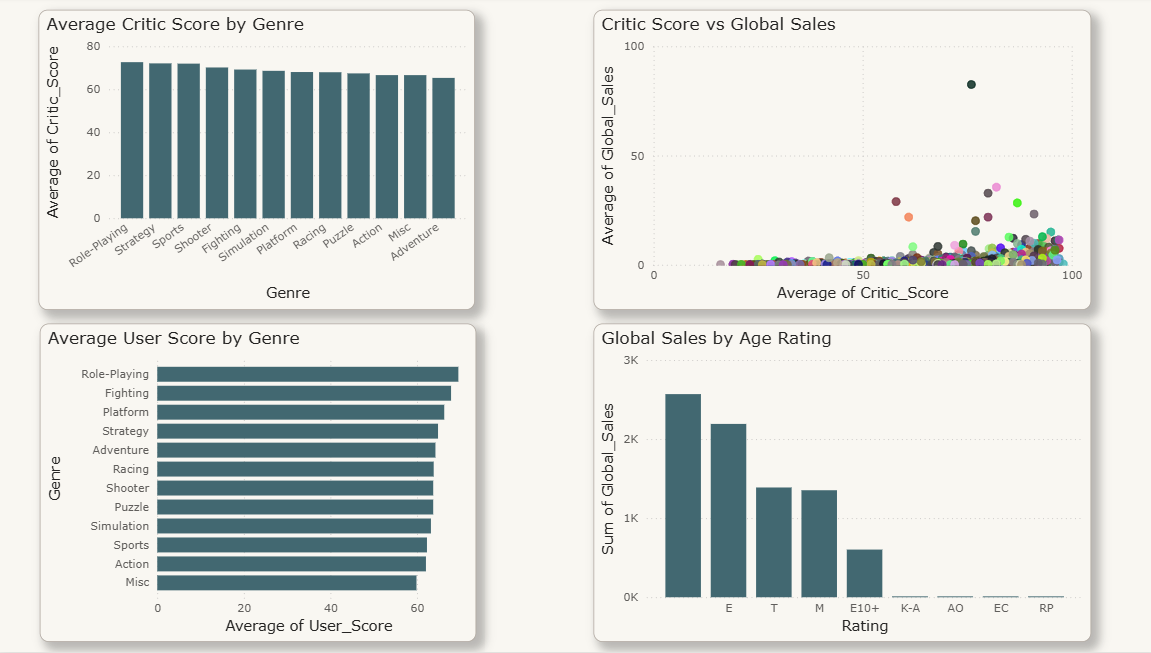

This screenshot's page, from the dashboard's own definition file:
{"tool":"powerbi","page":{"name":"⭐ Ratings & Reviews","canvas":[1280,720],"ordinal":3},"visuals":[{"type":"clusteredColumnChart","title":"Average Critic Score by Genre","fields":{"Category":["Video_Games_Sales_as_at_22_Dec_2016.Genre"],"Y":["Avg(Video_Games_Sales_as_at_22_Dec_2016.Critic_Score)"]},"box":[46.7,15.1,478.9,329.3],"z":0},{"type":"scatterChart","title":"Critic Score vs Global Sales","fields":{"X":["Avg(Video_Games_Sales_as_at_22_Dec_2016.Critic_Score)"],"Y":["Avg(Video_Games_Sales_as_at_22_Dec_2016.Global_Sales)"],"Category":["Video_Games_Sales_as_at_22_Dec_2016.Name"]},"box":[655.9,15.1,546.1,329.3],"z":1},{"type":"clusteredBarChart","title":"Average User Score by Genre","fields":{"Category":["Video_Games_Sales_as_at_22_Dec_2016.Genre"],"Y":["Avg(Video_Games_Sales_as_at_22_Dec_2016.User_Score)"]},"box":[48,359.5,478.9,349.9],"z":2},{"type":"clusteredColumnChart","title":"Global Sales by Age Rating","fields":{"Category":["Video_Games_Sales_as_at_22_Dec_2016.Rating"],"Y":["Sum(Video_Games_Sales_as_at_22_Dec_2016.Global_Sales)"]},"box":[655.9,359.5,546.1,349.9],"z":3}]}

Visuals, with their boxes in screenshot pixels (x1, y1, x2, y2), scaled from the page's 1280x720 canvas onto the 1151x653 screenshot:
"Average Critic Score by Genre" clusteredColumnChart: {"left": 42, "top": 14, "right": 473, "bottom": 312}
"Critic Score vs Global Sales" scatterChart: {"left": 590, "top": 14, "right": 1081, "bottom": 312}
"Average User Score by Genre" clusteredBarChart: {"left": 43, "top": 326, "right": 474, "bottom": 643}
"Global Sales by Age Rating" clusteredColumnChart: {"left": 590, "top": 326, "right": 1081, "bottom": 643}
